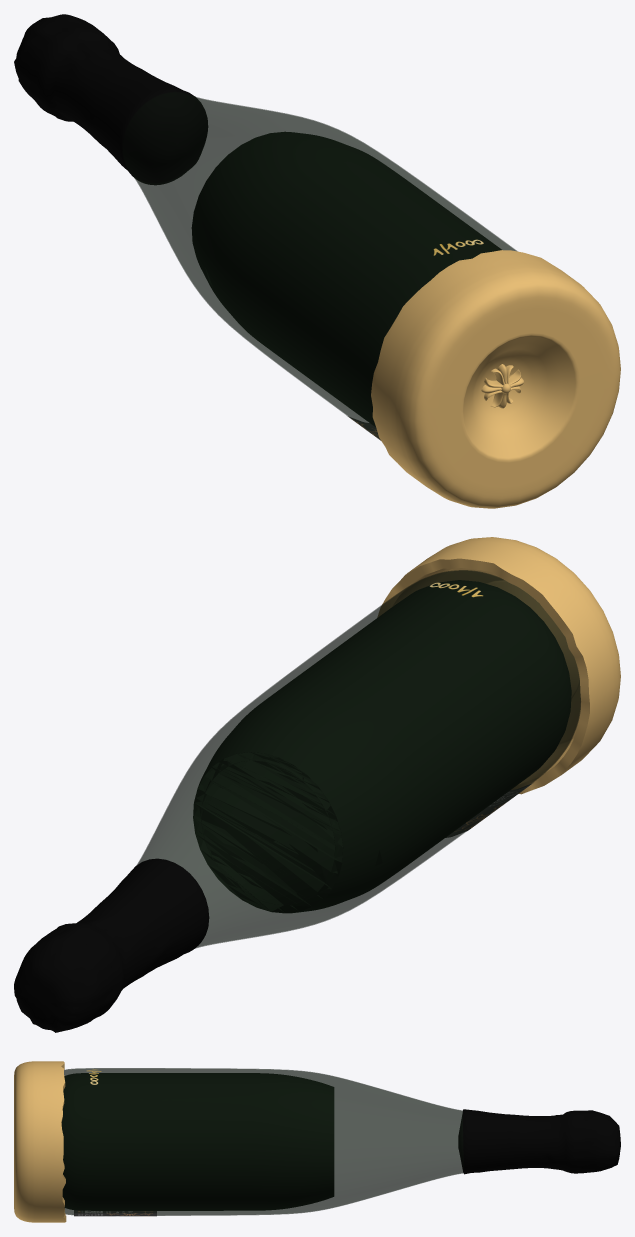
Rendered from KxCHBottle1.glb.
3 views of the same model, one above another, from view 1: azimuth 30°, elevation 25°; view 2: azimuth 150°, elevation 25°; view 3: azimuth 270°, elevation 25° (orthographic). The views are drawn at different scales.
Visible parts, largest first — view 1: OG, Base without top.002, imagetostl_mesh9.002, Cylinder.007, object_3; view 2: OG, imagetostl_mesh9.002, Cylinder.007, Base without top.002; view 3: OG, imagetostl_mesh9.002, Cylinder.007, Base without top.002, Plane.001.
Boxes of the visible parts, x1,y1,x2,y2 form: OG: (122, 92, 517, 439); Base without top.002: (371, 250, 620, 508); imagetostl_mesh9.002: (191, 131, 501, 426); Cylinder.007: (14, 14, 207, 184); object_3: (481, 364, 524, 408); OG: (136, 570, 580, 948); imagetostl_mesh9.002: (193, 580, 571, 913); Cylinder.007: (14, 858, 209, 1032); Base without top.002: (377, 537, 620, 794); OG: (62, 1068, 463, 1215); imagetostl_mesh9.002: (61, 1073, 334, 1210); Cylinder.007: (458, 1109, 620, 1174); Base without top.002: (14, 1061, 66, 1222); Plane.001: (74, 1210, 156, 1216).
Bounding box in the file's own units: 0.7213 × 0.7281 × 2.73.
7 materials, 2 textured.
